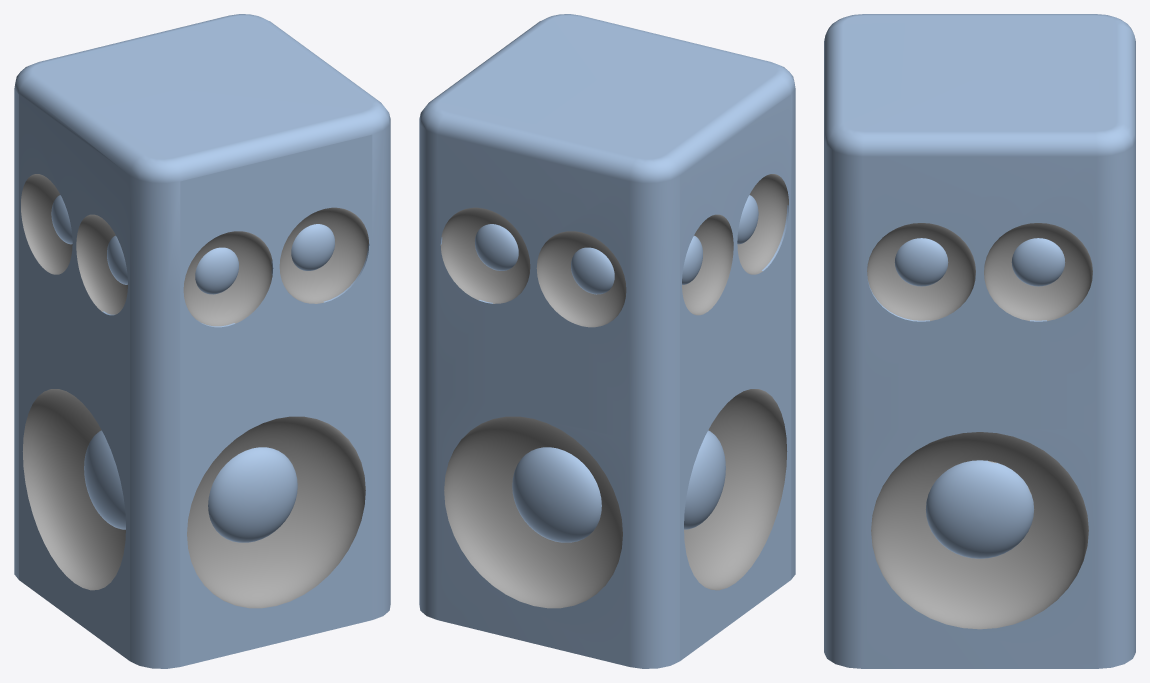
File: speaker3.mb.fbx
The picture shows the model from 3 angles, left to right: view 1: azimuth 30°, elevation 25°; view 2: azimuth 150°, elevation 25°; view 3: azimuth 270°, elevation 25°; orthographic projection. The views are drawn at different scales.
Parts seen in each view (by area): view 1: polySurface3; view 2: polySurface3; view 3: polySurface3.
Boxes of the visible parts, <box> form: polySurface3: <box>14,14,390,668</box>; polySurface3: <box>419,14,795,668</box>; polySurface3: <box>824,14,1135,668</box>.
Bounding box in the file's own units: 6 × 11.24 × 6.
